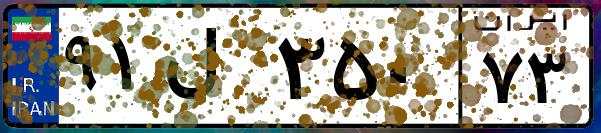0: (385, 28, 445, 110)
1: (110, 28, 158, 98)
3: (270, 28, 330, 110), (525, 38, 570, 115)
5: (330, 28, 385, 110)
7: (475, 38, 525, 113)
9: (57, 26, 110, 100)
ل: (158, 20, 270, 120)
